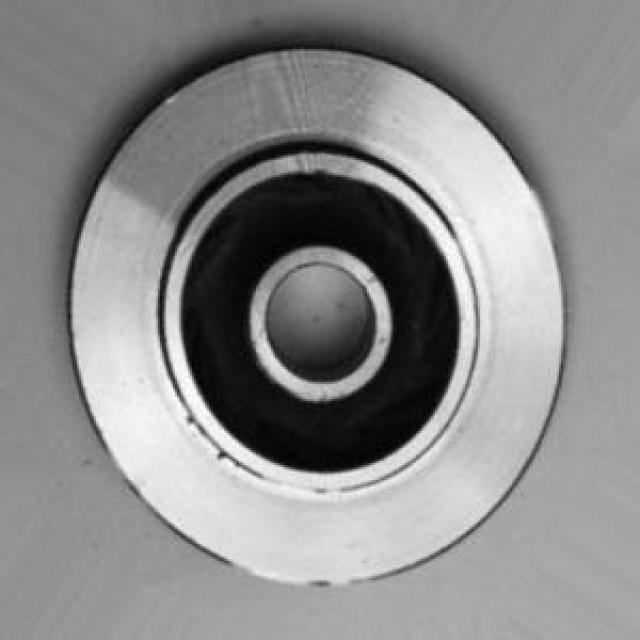Defect: (209, 439, 242, 480)
